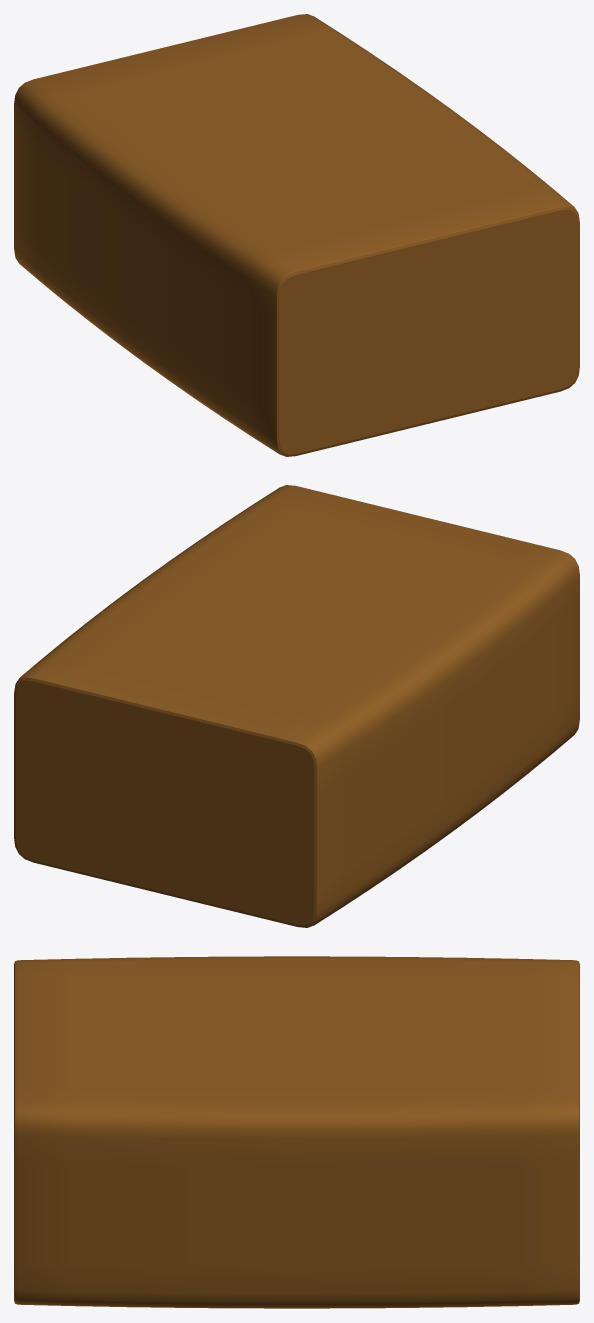
File: soap2.fbx
3 views of the same model, one above another, from view 1: azimuth 30°, elevation 25°; view 2: azimuth 150°, elevation 25°; view 3: azimuth 270°, elevation 25° (orthographic). The views are drawn at different scales.
Visible parts, largest first — view 1: Box001; view 2: Box001; view 3: Box001.
Part boxes in pixels (bbox=[...]): Box001: bbox=[14, 14, 579, 456]; Box001: bbox=[14, 485, 579, 927]; Box001: bbox=[14, 956, 579, 1308].
Size of the model in its own units: 63.2 by 35 by 90.
